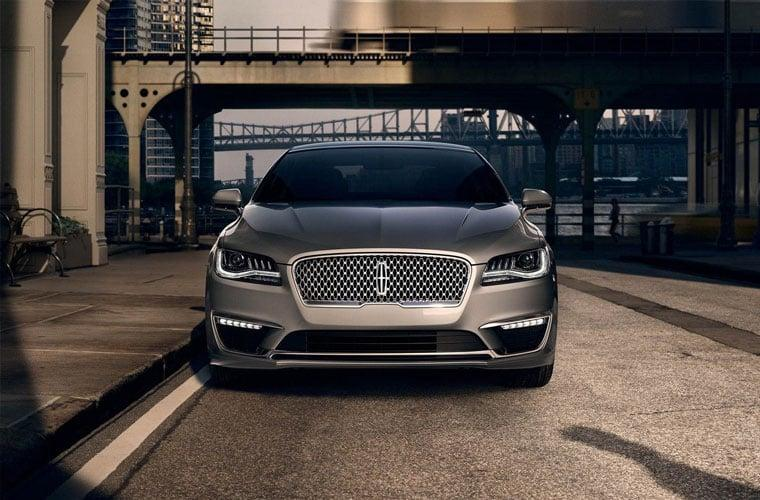lincoln: (367, 253, 397, 304)
